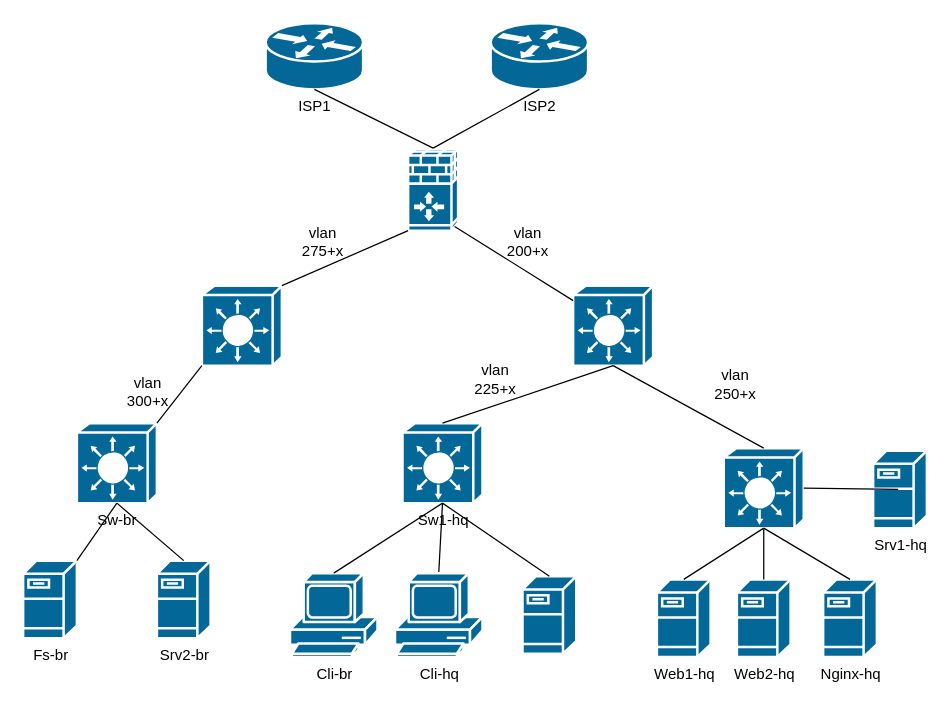
This 949x704 diagram has some shape labels left out. Here are the shapes that lost their labels. From the top down, the centre of each, then its label:
At [241,325]: "Eltex-br".
At [612,325]: "Eltex-hq".
At [763,487]: "Sw2-hq".
At [549,614]: "Vpn-hq".
